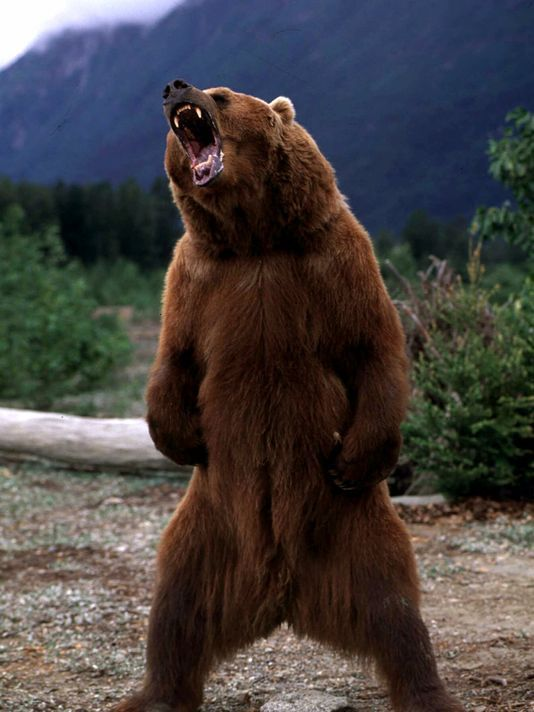bear: (154, 76, 315, 211)
